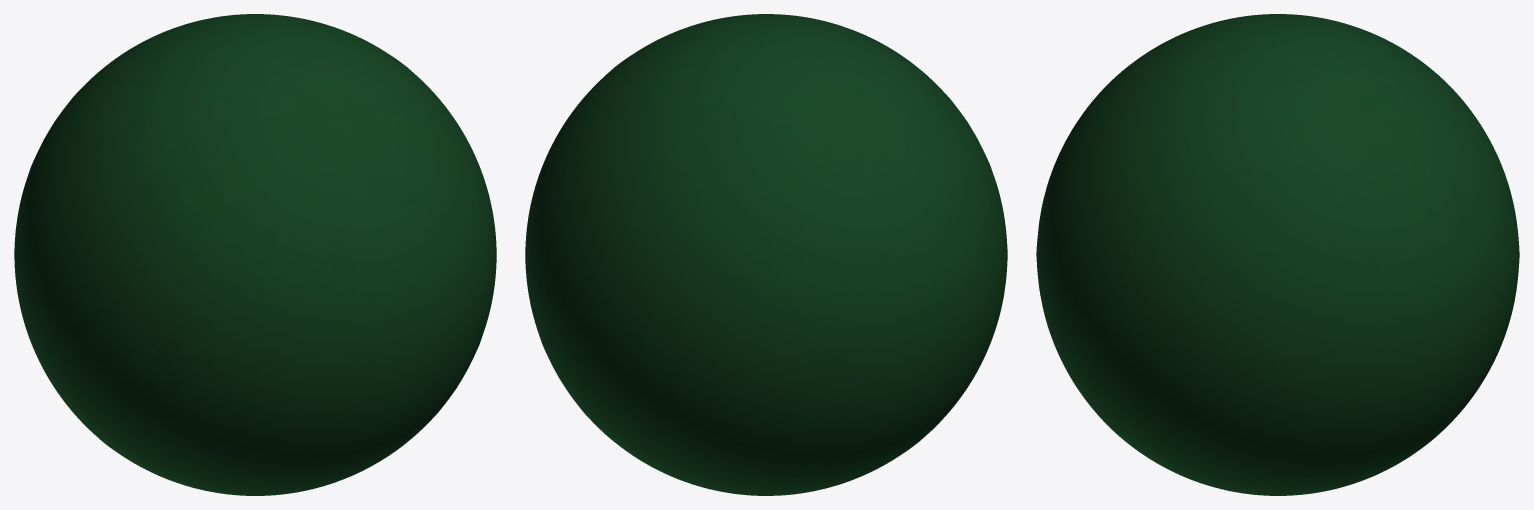
Rendered from ball.glb.
3 views of the same model, side by side, from view 1: azimuth 30°, elevation 25°; view 2: azimuth 150°, elevation 25°; view 3: azimuth 270°, elevation 25° (orthographic).
Bounding box in the file's own units: 1.9 × 1.9 × 1.9.
Materials: 1 (1 with a texture image).
